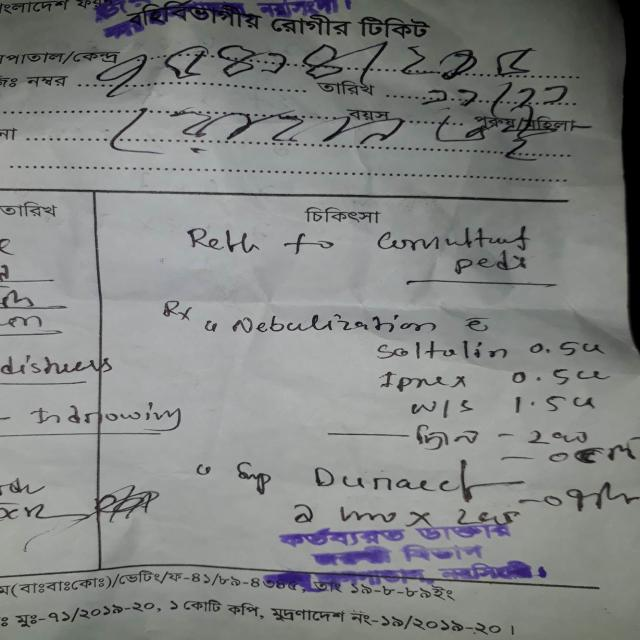Duracef: (307, 457, 513, 508)
Iprex: (366, 363, 476, 394)
Sultolin: (370, 339, 512, 367)
